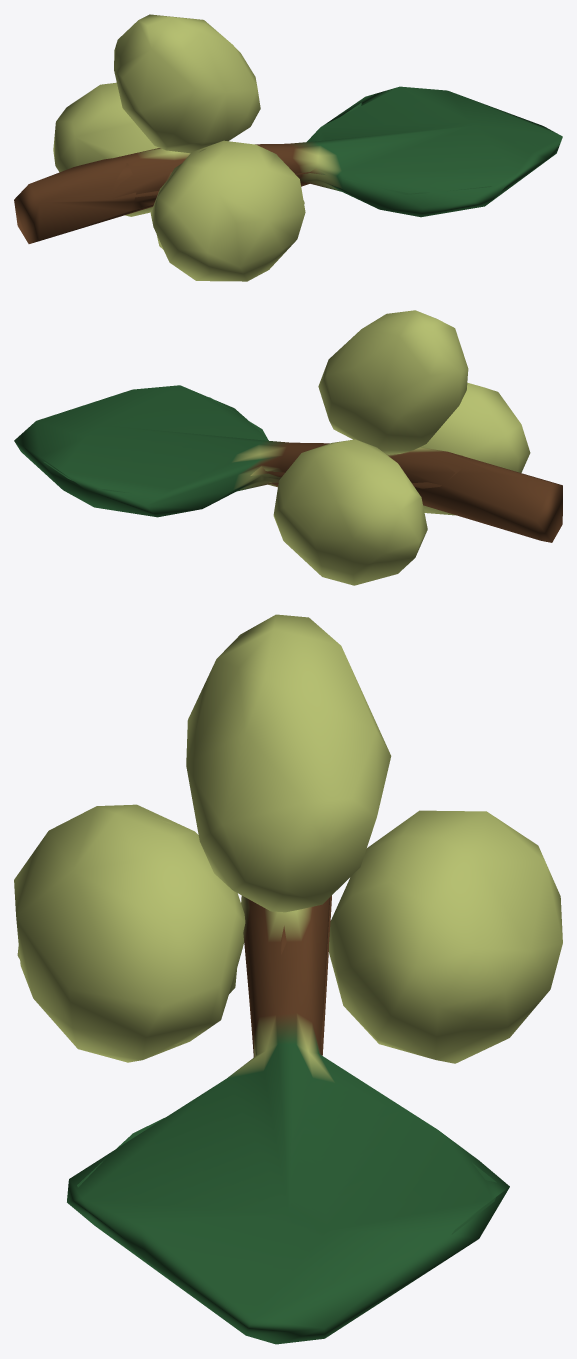
The model's file is forage_kiwiberry.glb.
3 views of the same model, one above another, from view 1: azimuth 30°, elevation 25°; view 2: azimuth 150°, elevation 25°; view 3: azimuth 270°, elevation 25° (orthographic). The views are drawn at different scales.
Visible parts, largest first — view 1: forage_kiwiberry; view 2: forage_kiwiberry; view 3: forage_kiwiberry.
Part boxes in pixels (box(x1,y1,x2,y2)): forage_kiwiberry: box(14, 14, 562, 281); forage_kiwiberry: box(14, 310, 562, 585); forage_kiwiberry: box(14, 614, 562, 1344).
Bounding box in the file's own units: 0.9946 × 0.426 × 0.5171.
